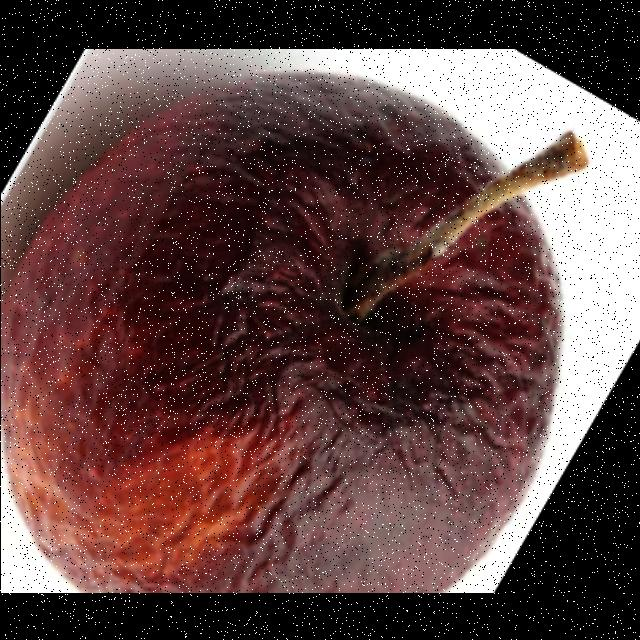Apel Tidak Segar: (0, 86, 560, 592)
